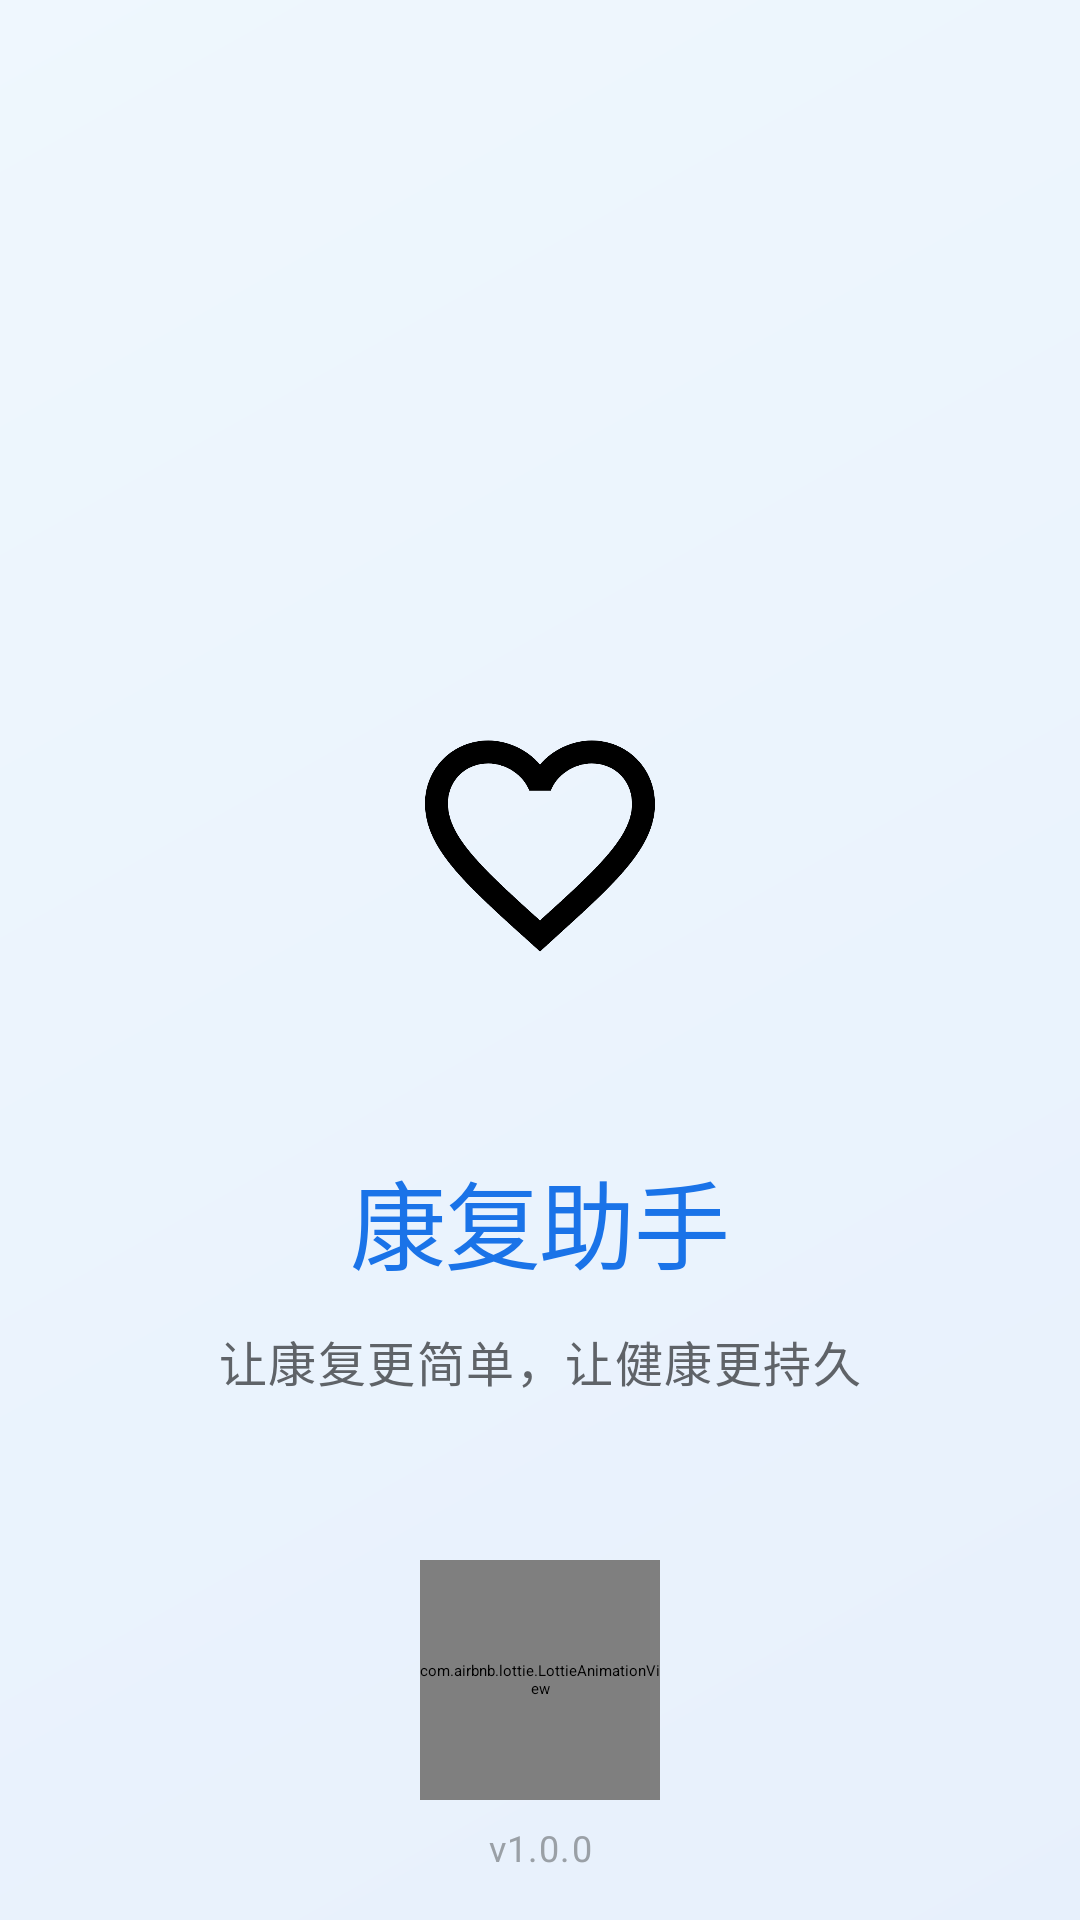

Where to tap for icons on this 1080*1920 app screen, as (x=x, y=y):
health: (x=540, y=845)
